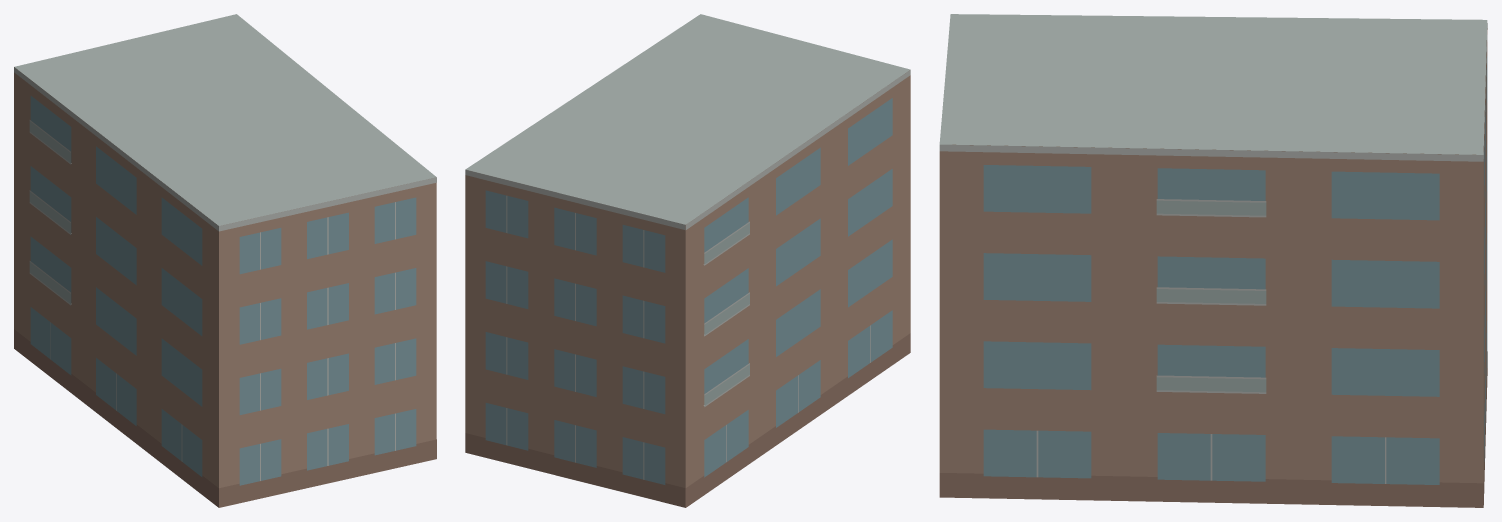
Rendered from survey-upis-32769336.glb.
The picture shows the model from 3 angles, left to right: view 1: azimuth 30°, elevation 25°; view 2: azimuth 150°, elevation 25°; view 3: azimuth 270°, elevation 25°; orthographic projection. The views are drawn at different scales.
Visible parts, largest first — view 1: survey-upis-32769336.tmp; view 2: survey-upis-32769336.tmp; view 3: survey-upis-32769336.tmp.
Boxes of the visible parts, bbox=[...] form: survey-upis-32769336.tmp: bbox=[14, 14, 436, 507]; survey-upis-32769336.tmp: bbox=[465, 14, 910, 507]; survey-upis-32769336.tmp: bbox=[939, 14, 1487, 507].
Bounding box in the file's own units: 10.76 × 12.56 × 17.68.
